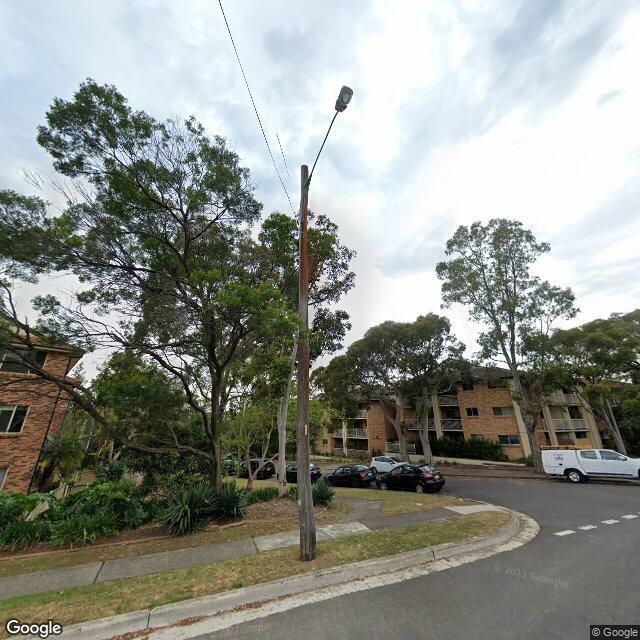streetlight: (306, 85, 354, 191)
timber-pole: (298, 164, 317, 562)
